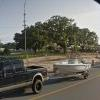Boat: (46, 53, 95, 80)
